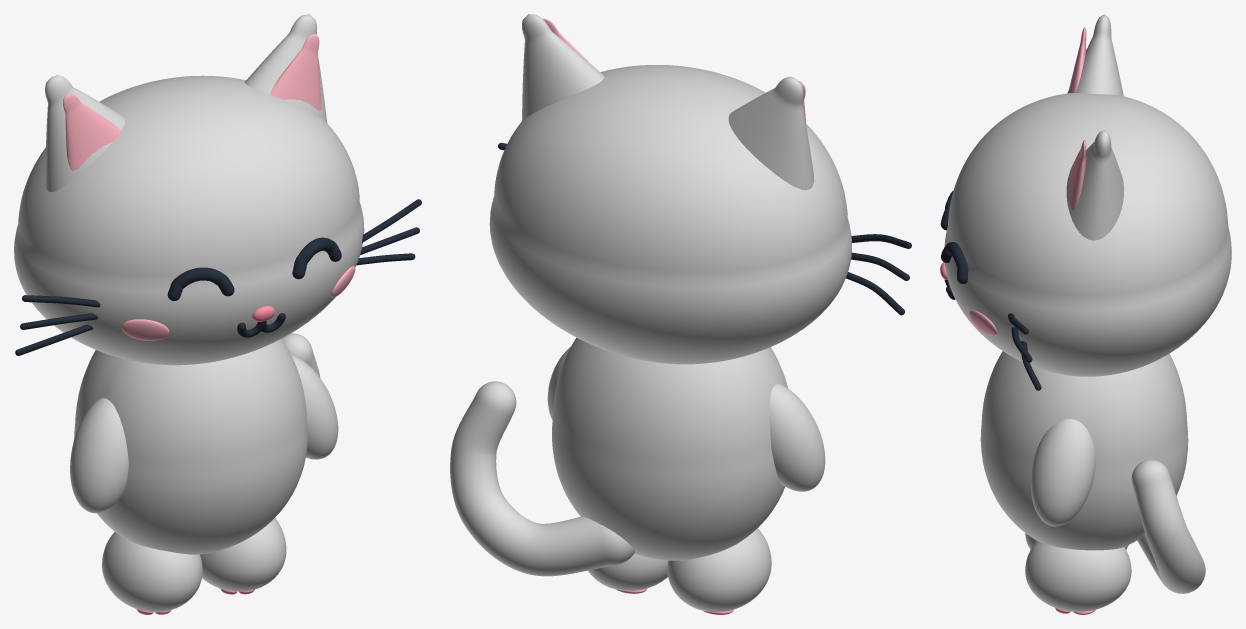
File: kucing-putih.glb
3 views of the same model, side by side, from view 1: azimuth 30°, elevation 25°; view 2: azimuth 150°, elevation 25°; view 3: azimuth 270°, elevation 25° (orthographic). The views are drawn at different scales.
Visible parts, largest first — view 1: Kucing; view 2: Kucing; view 3: Kucing.
Part boxes in pixels (<box>): Kucing: <box>14,14,421,614</box>; Kucing: <box>450,14,911,614</box>; Kucing: <box>940,14,1231,614</box>.
Size of the model in its own units: 0.768 by 1 by 0.5109.
